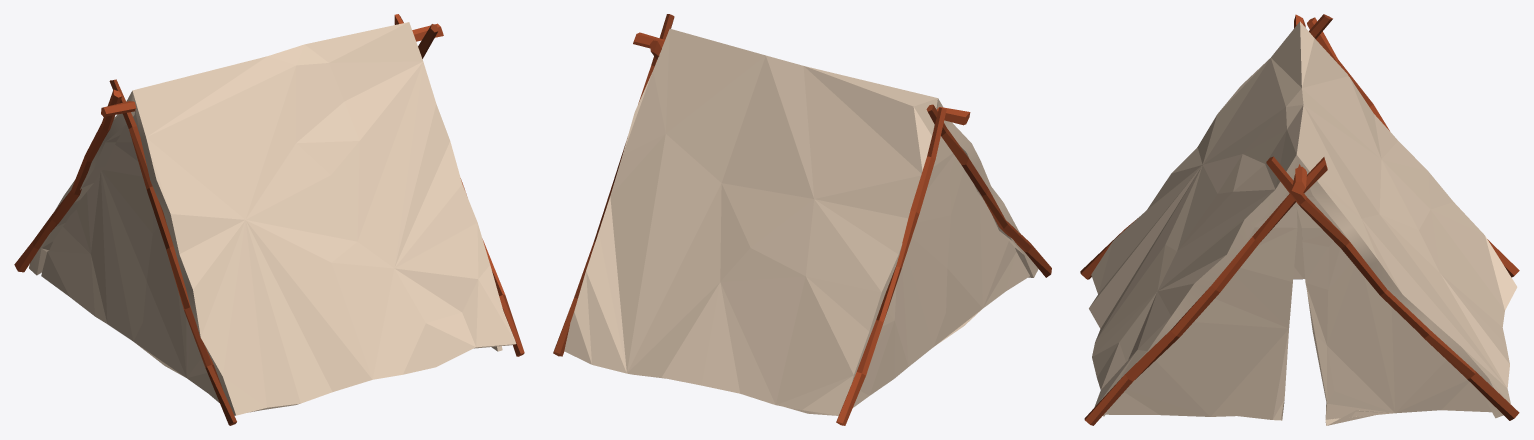
Rendered from Tent_001.FBX.
The picture shows the model from 3 angles, left to right: view 1: azimuth 30°, elevation 25°; view 2: azimuth 150°, elevation 25°; view 3: azimuth 270°, elevation 25°; orthographic projection. The views are drawn at different scales.
Visible parts, largest first — view 1: Cylinder017, TentBack, Cylinder019, Cylinder020, Cylinder021, Cylinder022; view 2: Cylinder017, TentBack, Cylinder020, Cylinder019, Cylinder018, Cylinder022; view 3: Cylinder017, TentFont001, TentFrontEntrance, Cylinder018, Cylinder021, Cylinder020, Cylinder019, TentBack, Cylinder022.
Part boxes in pixels (box(x1,y1,x2,y2)): Cylinder017: box(29, 22, 516, 415); TentBack: box(41, 111, 219, 402); Cylinder019: box(109, 79, 236, 425); Cylinder020: box(14, 89, 121, 272); Cylinder021: box(394, 14, 524, 356); Cylinder022: box(101, 23, 443, 116); Cylinder017: box(564, 28, 1038, 415); TentBack: box(853, 136, 1029, 407); Cylinder020: box(836, 107, 946, 425); Cylinder019: box(926, 104, 1051, 277); Cylinder018: box(553, 14, 674, 356); Cylinder022: box(633, 32, 970, 125); Cylinder017: box(1089, 21, 1517, 418); TentFont001: box(1106, 176, 1297, 420); TentFrontEntrance: box(1296, 188, 1491, 425); Cylinder018: box(1266, 156, 1519, 420); Cylinder021: box(1084, 157, 1327, 425); Cylinder020: box(1307, 17, 1519, 277); Cylinder019: box(1080, 14, 1332, 279); TentBack: box(1293, 208, 1305, 279); Cylinder022: box(1291, 14, 1306, 194).
Bounding box in the file's own units: 30.96 × 23.38 × 34.11.
